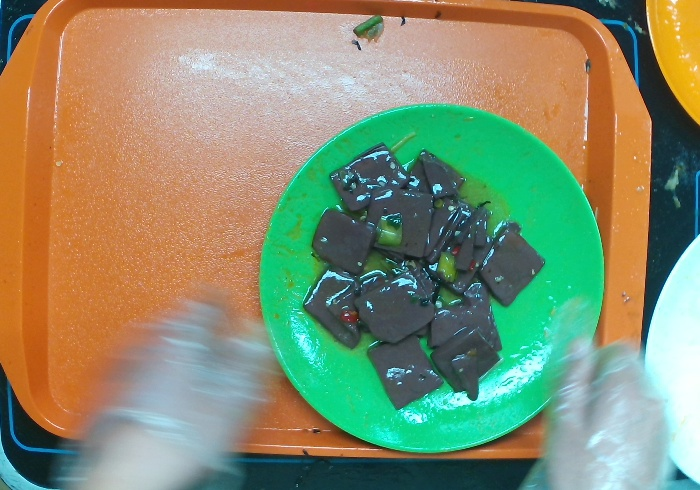HZYJPL-Lv_Se_Yuan_Pan: (253, 102, 606, 455)
